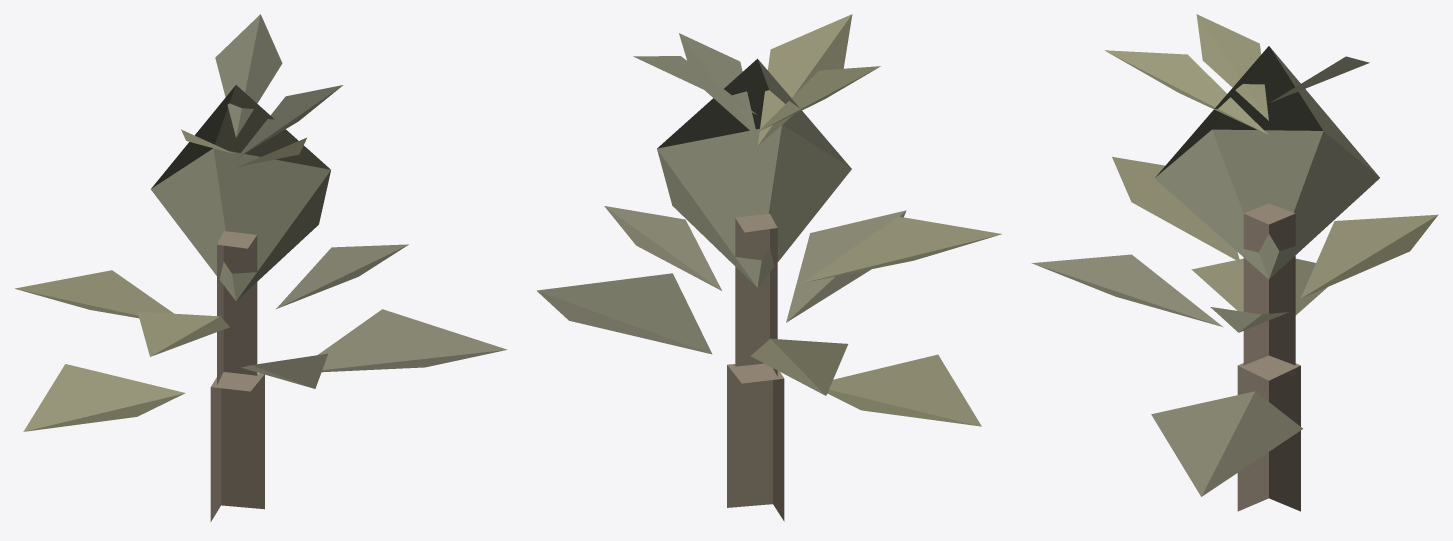
File: shu.wujiaofeng@seedling__winter.glb
3 views of the same model, side by side, from view 1: azimuth 30°, elevation 25°; view 2: azimuth 150°, elevation 25°; view 3: azimuth 270°, elevation 25° (orthographic). The views are drawn at different scales.
Visible parts, largest first — view 1: shu.wujiaofeng@seedling__winter; view 2: shu.wujiaofeng@seedling__winter; view 3: shu.wujiaofeng@seedling__winter.
Boxes of the visible parts, <box> form: shu.wujiaofeng@seedling__winter: <box>15,14,507,521</box>; shu.wujiaofeng@seedling__winter: <box>537,14,1001,521</box>; shu.wujiaofeng@seedling__winter: <box>1031,14,1438,511</box>.
Size of the model in its own units: 1.26 by 1.2 by 0.9071.
